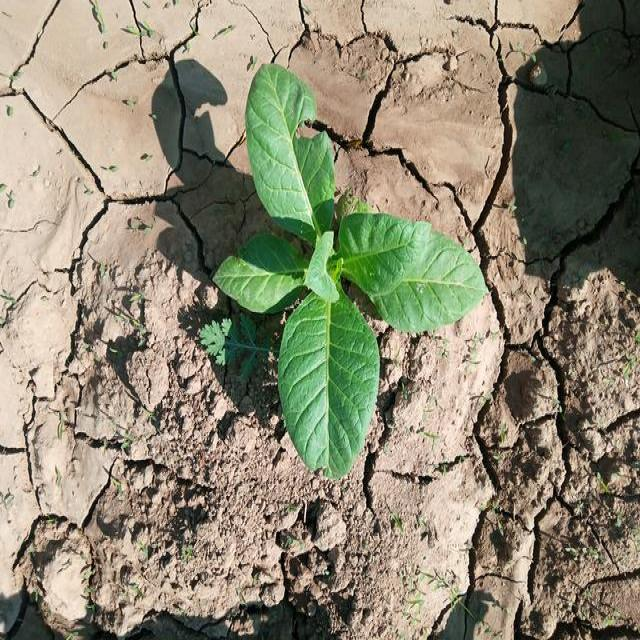crop: (232, 69, 482, 466)
